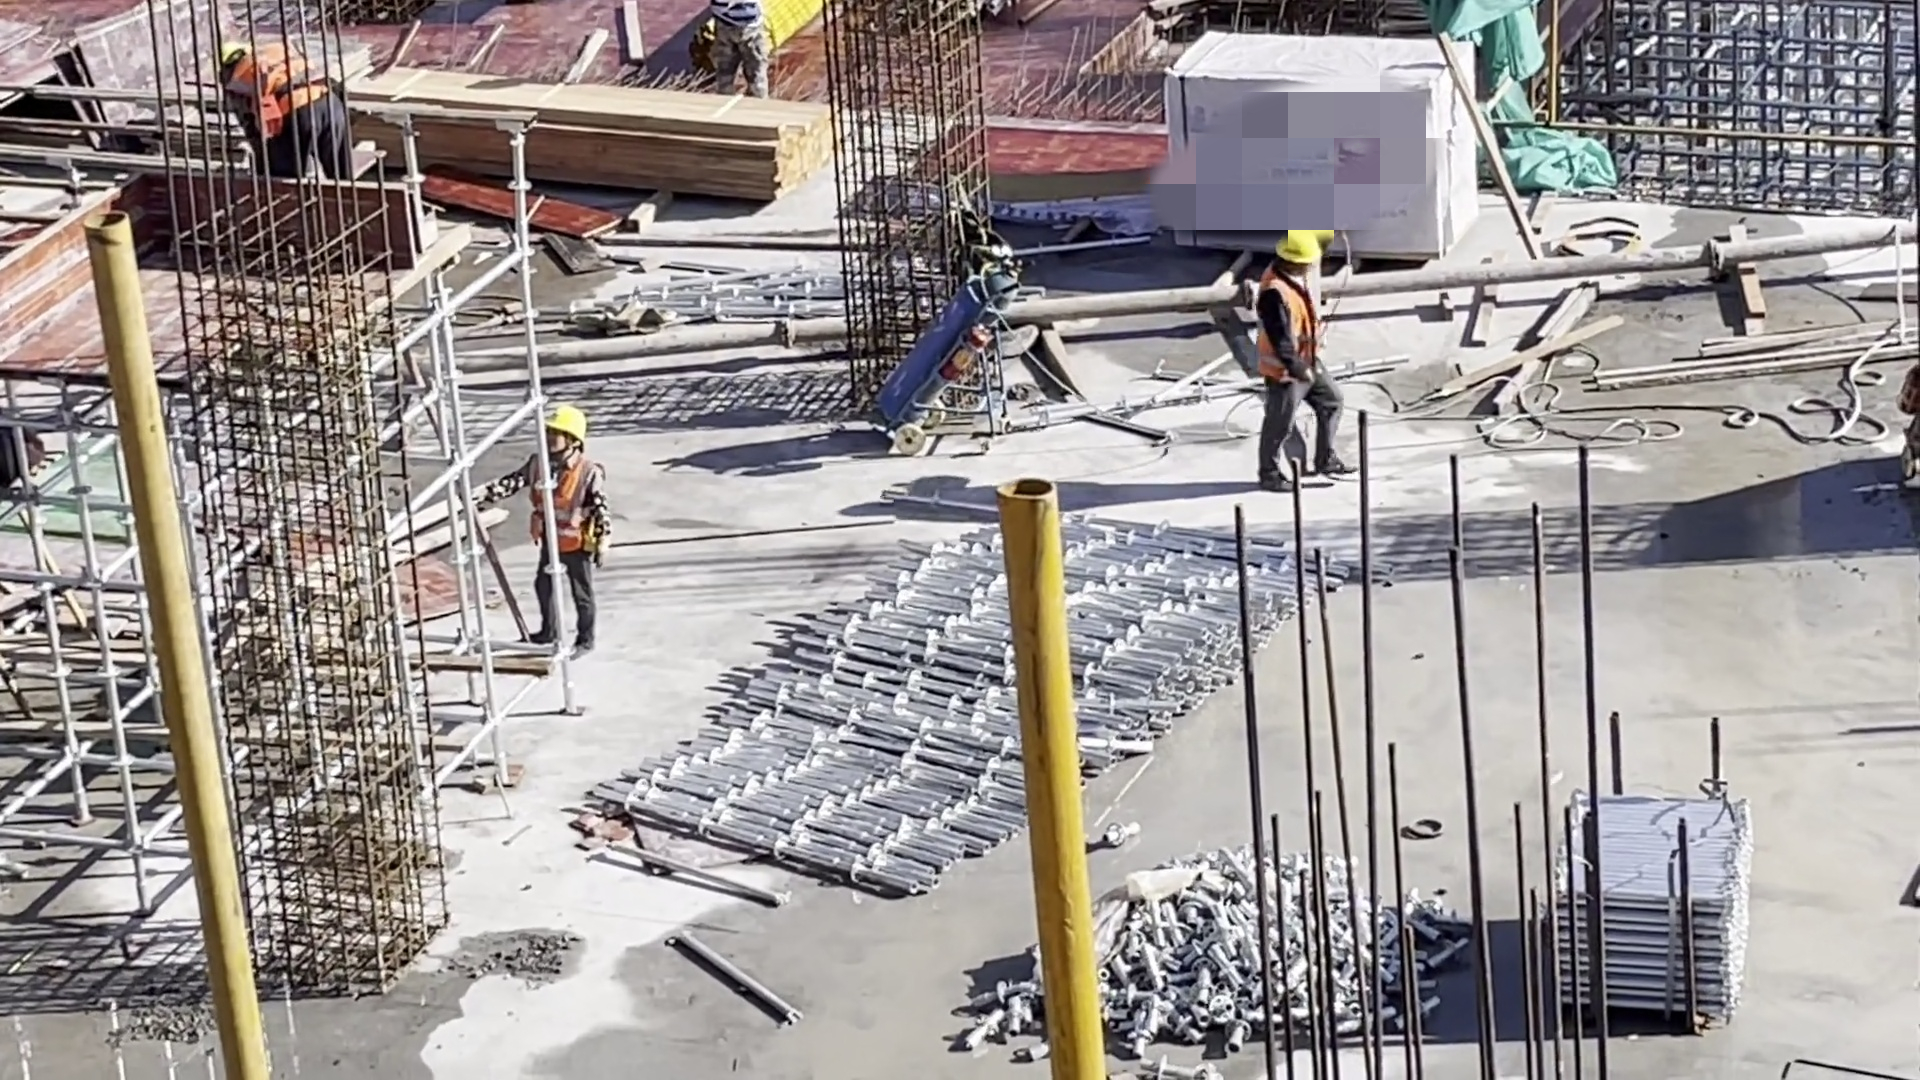helmet: (531, 407, 591, 456), (1272, 229, 1322, 267)
person: (474, 409, 614, 663), (1248, 226, 1359, 489), (222, 41, 354, 180), (701, 1, 744, 83)
vest: (232, 45, 333, 134), (1257, 271, 1318, 386), (528, 461, 594, 563)
